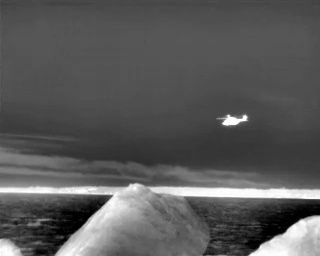HELICOPTER: (212, 108, 253, 132)
